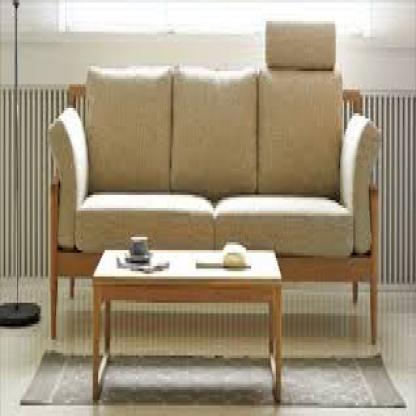sofa: (33, 19, 385, 268)
